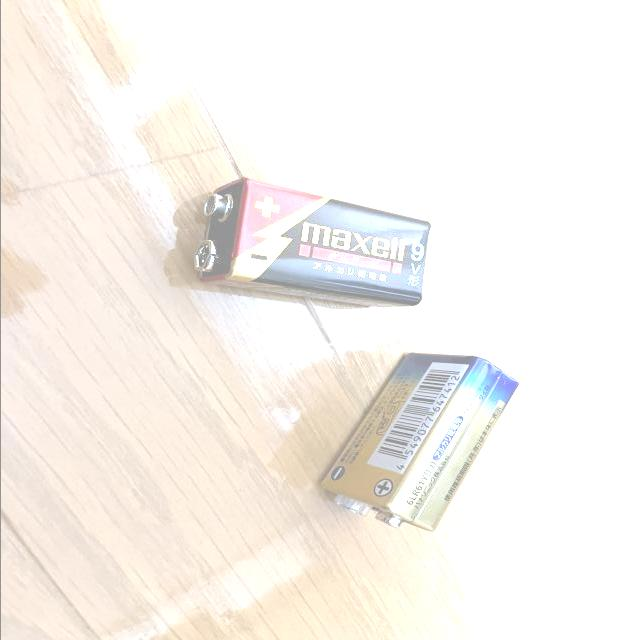9V: (317, 351, 519, 532), (192, 178, 433, 309)
